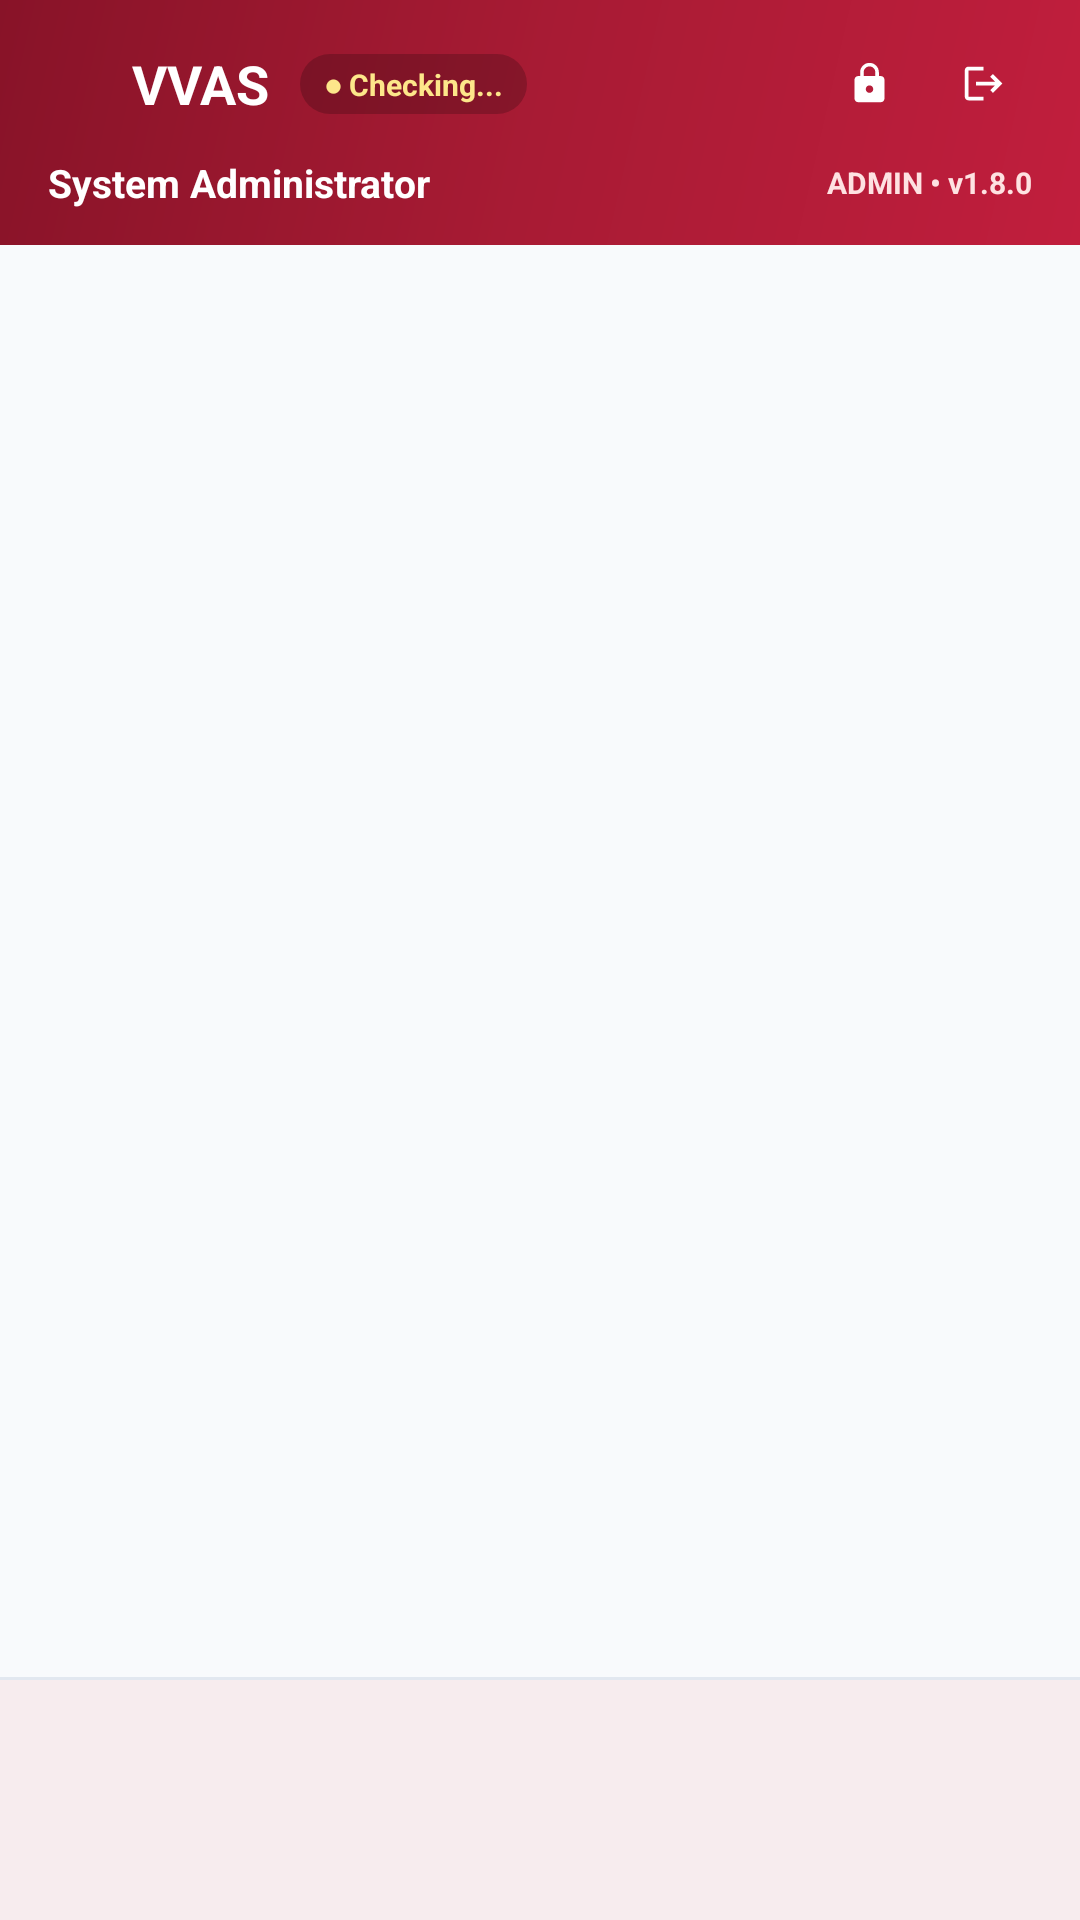

Where icons sit on this 1080x1920 app screen, as (x1, y1, x2, y2):
Change Password: (854, 63, 885, 103)
